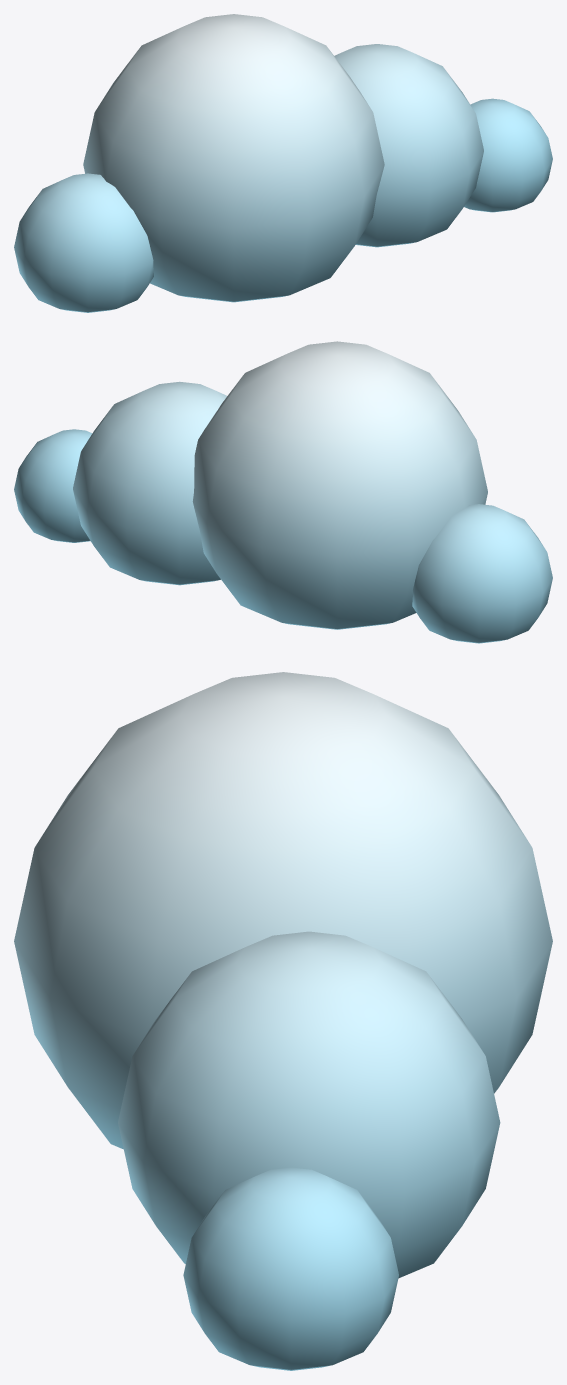
Rendered from Cloud_02.glb.
The picture shows the model from 3 angles, top to bottom: view 1: azimuth 30°, elevation 25°; view 2: azimuth 150°, elevation 25°; view 3: azimuth 270°, elevation 25°; orthographic projection. The views are drawn at different scales.
Visible parts, largest first — view 1: Cloud_02; view 2: Cloud_02; view 3: Cloud_02.
Part boxes in pixels (x1=…): Cloud_02: x1=14, y1=14, x2=552, y2=312; Cloud_02: x1=14, y1=341, x2=552, y2=643; Cloud_02: x1=14, y1=672, x2=552, y2=1370.
Bounding box in the file's own units: 3.99 × 1.72 × 2.
1 material, 1 textured.
